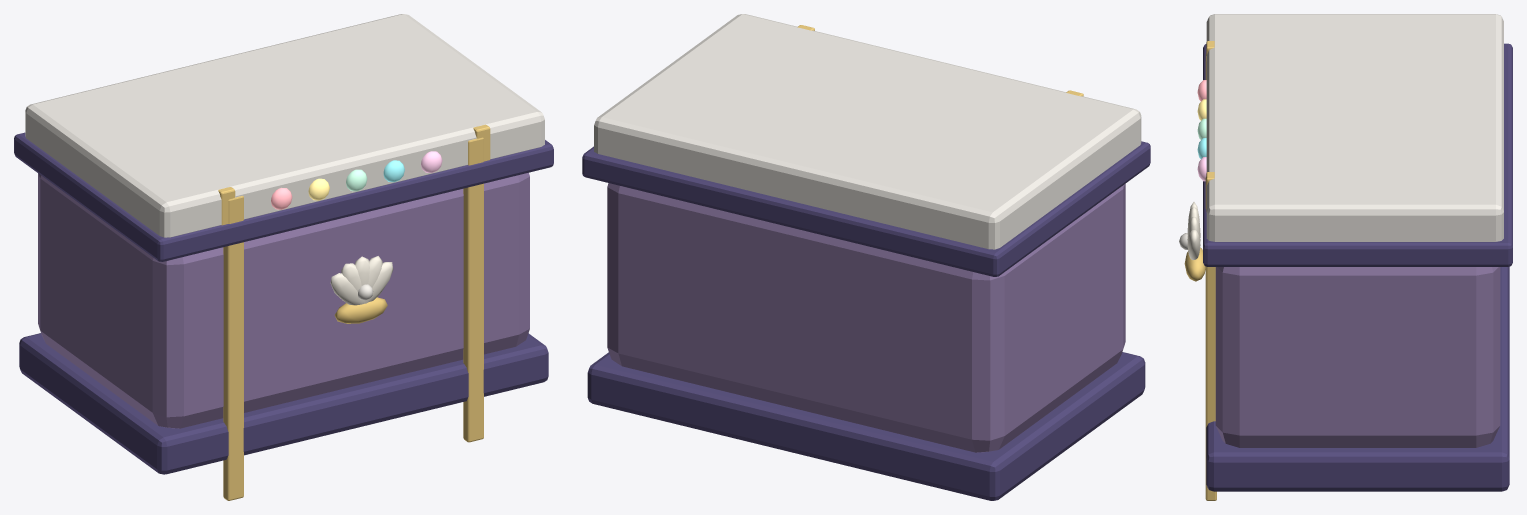
File: pearl_secret_chest.glb
The picture shows the model from 3 angles, left to right: view 1: azimuth 30°, elevation 25°; view 2: azimuth 150°, elevation 25°; view 3: azimuth 270°, elevation 25°; orthographic projection. The views are drawn at different scales.
Visible parts, largest first — view 1: pearl_secret_chest.001; view 2: pearl_secret_chest.001; view 3: pearl_secret_chest.001.
Boxes of the visible parts, box(x1,y1,x2,y2) form: pearl_secret_chest.001: box(14, 14, 553, 500); pearl_secret_chest.001: box(582, 14, 1150, 500); pearl_secret_chest.001: box(1179, 14, 1512, 500).
Size of the model in its own units: 7.6 by 5.7 by 5.28.
